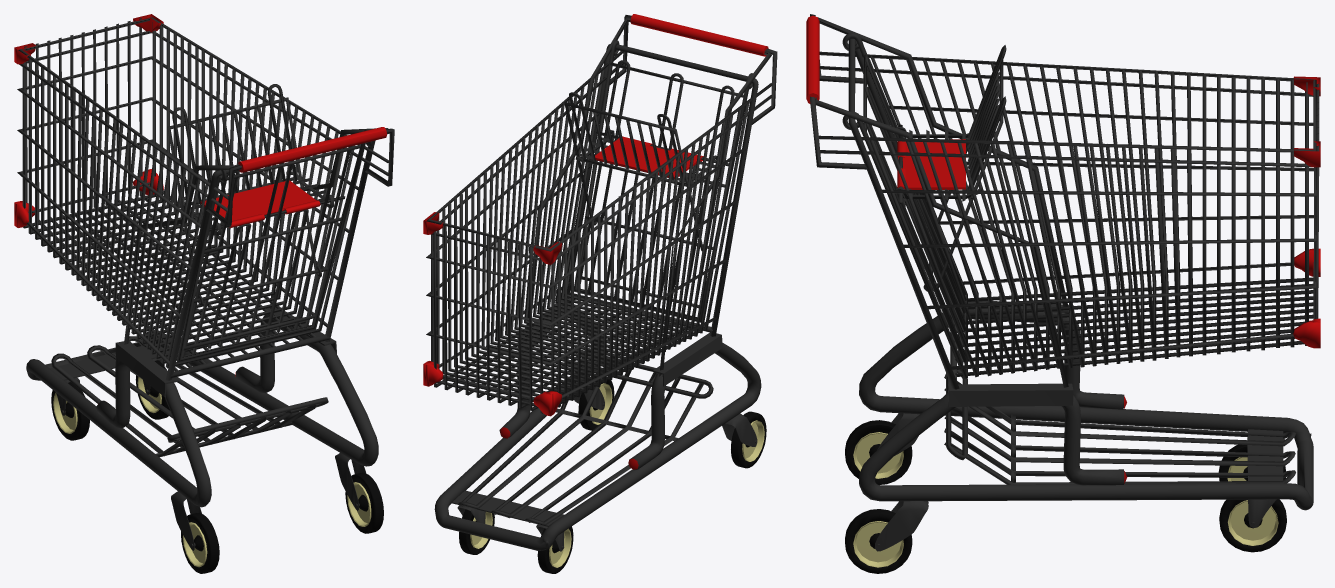
The model's file is wozek.FBX.
3 renders of one model, left to right at view 1: azimuth 30°, elevation 25°; view 2: azimuth 150°, elevation 25°; view 3: azimuth 270°, elevation 25°, orthographic. The views are drawn at different scales.
Visible parts, largest first — view 1: cart, Gate, seatBack, seat, Handle, Loft01, Loft05, Box01, Box05, lBumpers, uBumpers, seatFrame (+4 smaller); view 2: cart, Gate, seatBack, seat, Handle, lBumpers, Loft01, Box01, uBumpers, seatFrame, Line01, Loft04 (+1 smaller); view 3: cart, Gate, seatBack, seat, Box05, Loft05, Line05, Loft01, Line06, Loft04, Handle, lBumpers (+3 smaller).
Part boxes in pixels (x1,y1,x2,y2): cart: [17, 17, 394, 507]; Gate: [176, 129, 372, 363]; seatBack: [167, 84, 321, 306]; seat: [200, 180, 320, 227]; Handle: [238, 127, 386, 172]; Loft01: [181, 513, 219, 573]; Loft05: [345, 472, 383, 533]; Box01: [171, 491, 201, 550]; Box05: [335, 453, 366, 510]; lBumpers: [14, 169, 163, 227]; uBumpers: [14, 14, 163, 64]; seatFrame: [181, 171, 333, 235]; cart: [426, 15, 777, 550]; Gate: [574, 40, 752, 322]; seatBack: [564, 92, 703, 251]; seat: [595, 136, 703, 178]; Handle: [630, 14, 768, 56]; lBumpers: [423, 361, 561, 416]; Loft01: [731, 411, 766, 468]; Box01: [722, 413, 757, 446]; uBumpers: [423, 212, 561, 264]; seatFrame: [576, 130, 716, 184]; Line01: [742, 420, 764, 461]; Loft04: [459, 509, 494, 554]; cart: [810, 14, 1319, 510]; Gate: [842, 33, 966, 365]; seatBack: [923, 45, 1006, 291]; seat: [897, 139, 965, 189]; Box05: [874, 501, 928, 551]; Loft05: [845, 509, 912, 573]; Line05: [1227, 500, 1278, 545]; Loft01: [845, 420, 912, 484]; Line06: [853, 521, 903, 567]; Loft04: [1219, 499, 1286, 552]; Handle: [806, 15, 819, 103]; lBumpers: [1293, 248, 1320, 348].
Bounding box in the file's own units: 520 × 1172 × 1153.
